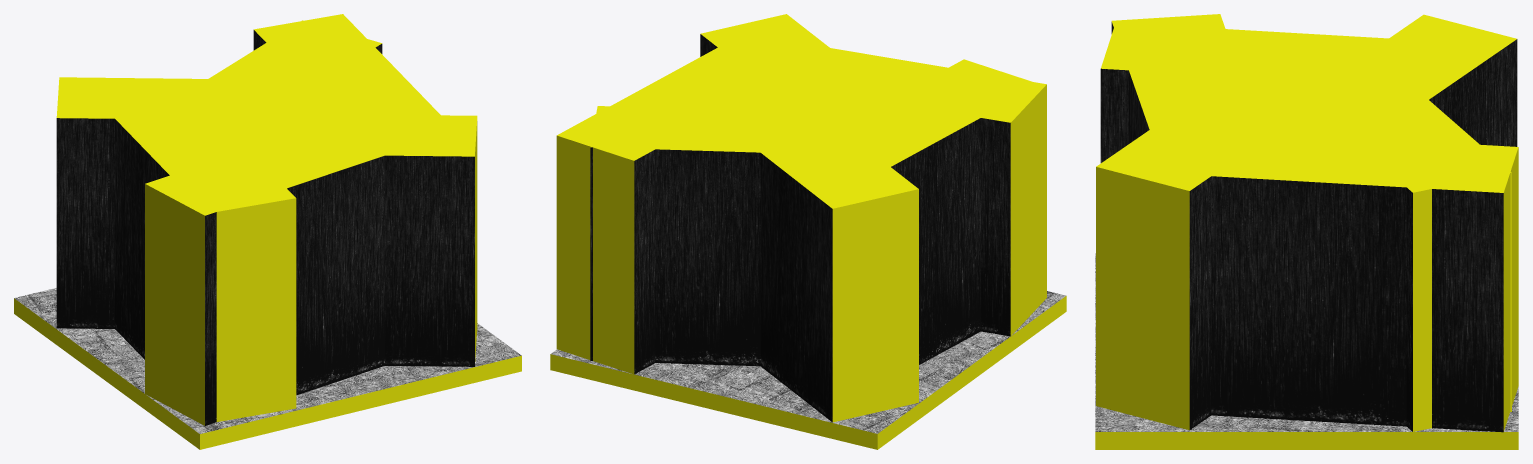
The model's file is Gallery_woody.fbx.
3 views of the same model, side by side, from view 1: azimuth 30°, elevation 25°; view 2: azimuth 150°, elevation 25°; view 3: azimuth 270°, elevation 25° (orthographic). The views are drawn at different scales.
Visible parts, largest first — view 1: Краска - Кадмий Желтый, Плитка - Светло-Коричневая 15x15, Плитка - Мозаика Синяя; view 2: Краска - Кадмий Желтый, Плитка - Светло-Коричневая 15x15, Плитка - Мозаика Синяя; view 3: Краска - Кадмий Желтый, Плитка - Светло-Коричневая 15x15, Плитка - Мозаика Синяя.
Boxes of the visible parts, box(x1,y1,x2,y2) form: Краска - Кадмий Желтый: box(14, 14, 521, 449); Плитка - Светло-Коричневая 15x15: box(56, 30, 474, 425); Плитка - Мозаика Синяя: box(14, 288, 521, 433); Краска - Кадмий Желтый: box(550, 14, 1066, 449); Плитка - Светло-Коричневая 15x15: box(590, 34, 1010, 422); Плитка - Мозаика Синяя: box(551, 291, 1065, 433); Краска - Кадмий Желтый: box(1095, 14, 1518, 449); Плитка - Светло-Коричневая 15x15: box(1100, 22, 1517, 432); Плитка - Мозаика Синяя: box(1095, 253, 1518, 431).
Size of the model in its own units: 963 by 962 by 645.
3 materials, 2 textured.
